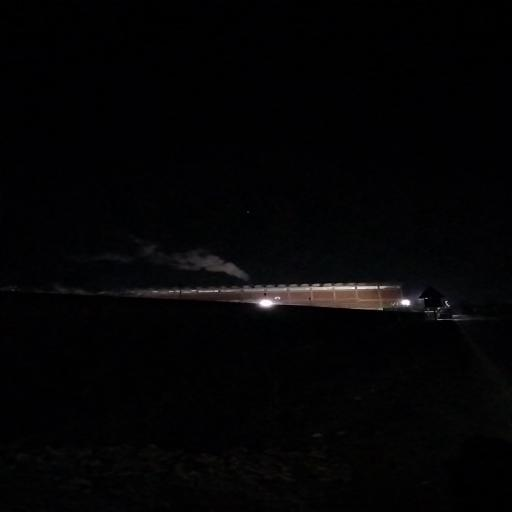leakage: (117, 232, 259, 285)
